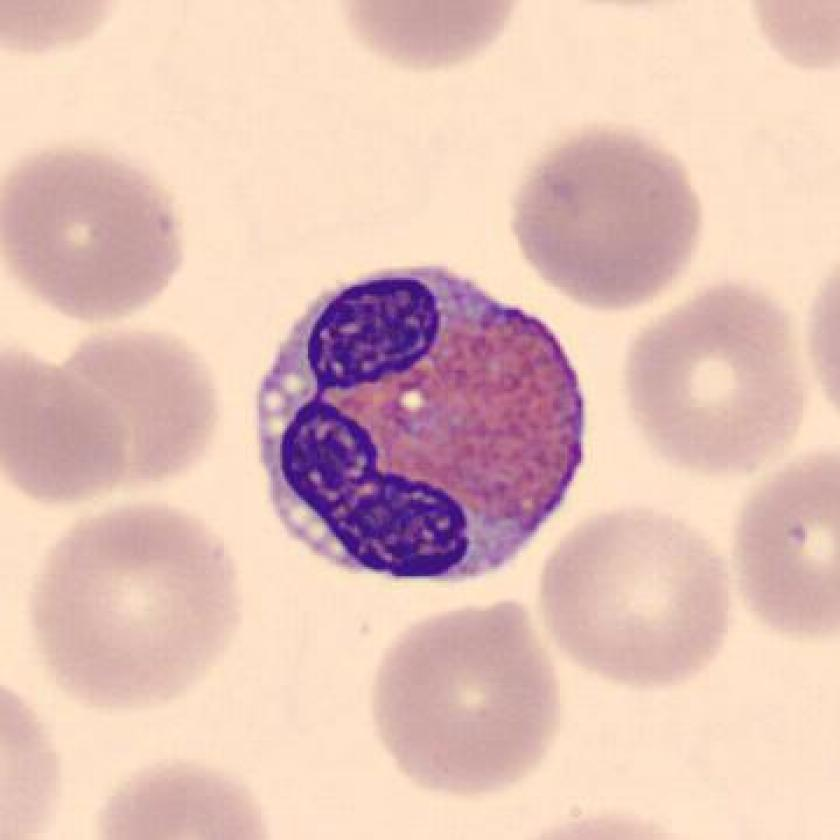eosinophil: (246, 251, 603, 603)
